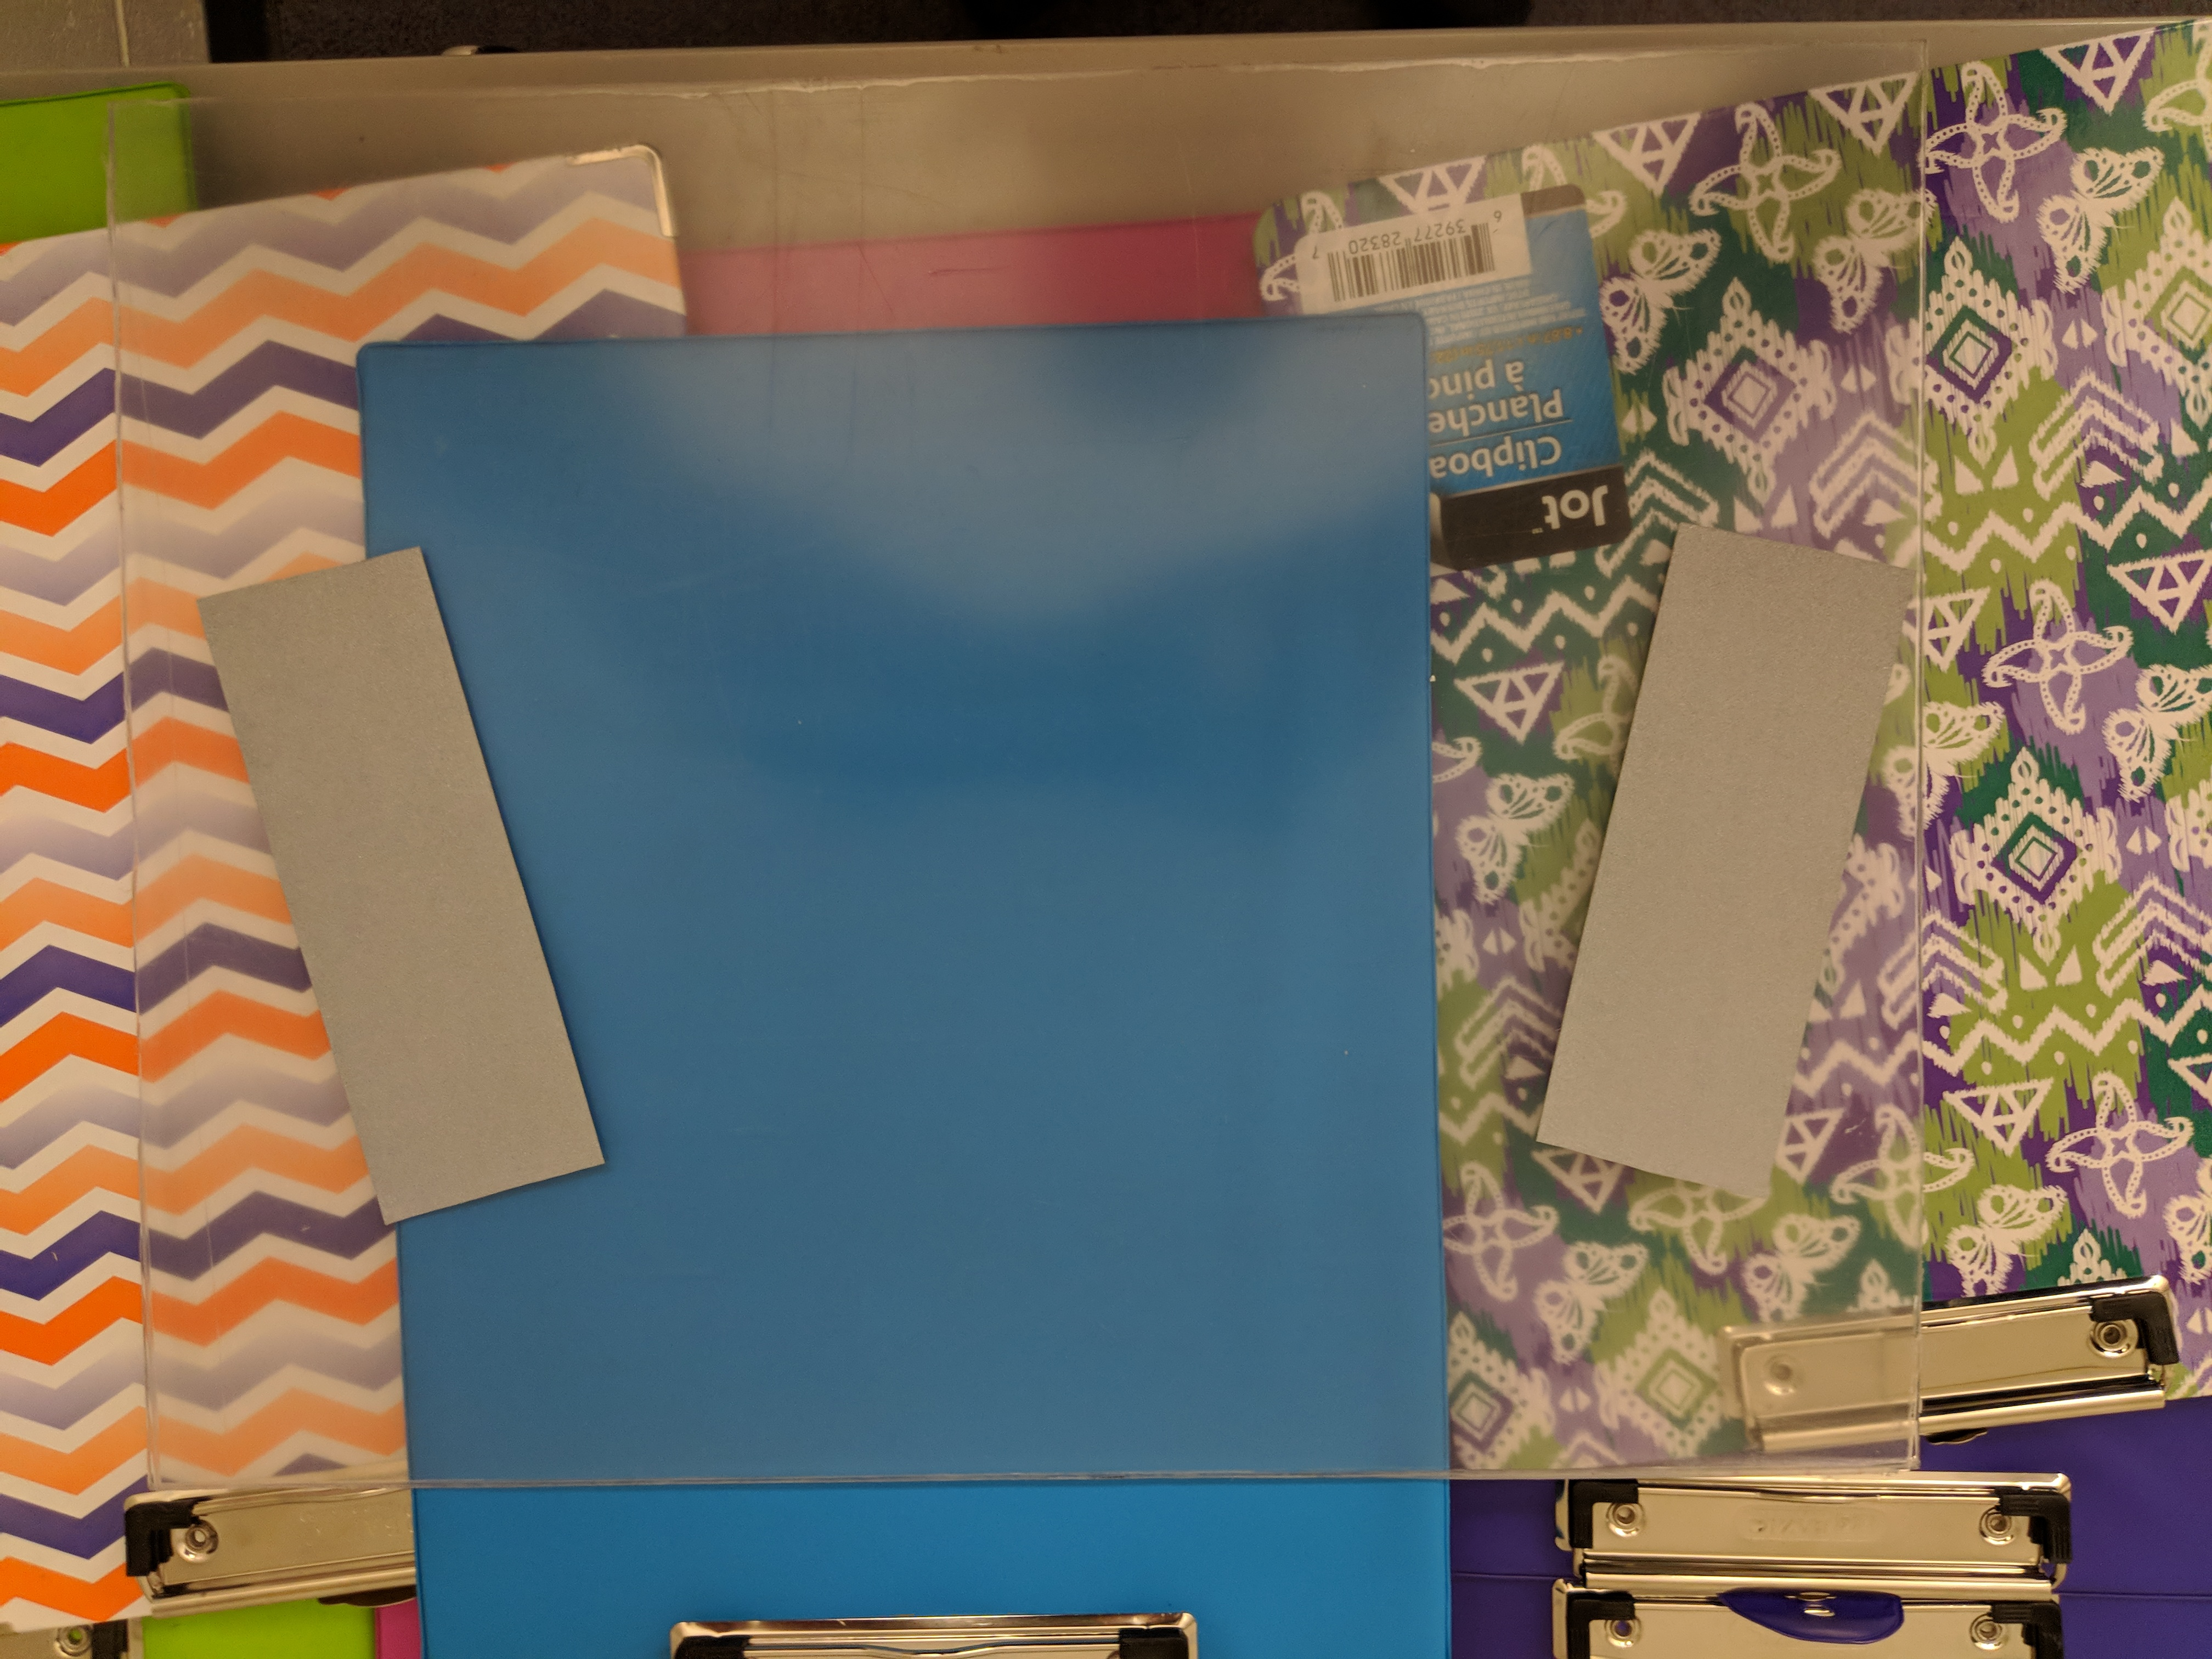vision_target: (174, 509, 1944, 1246)
